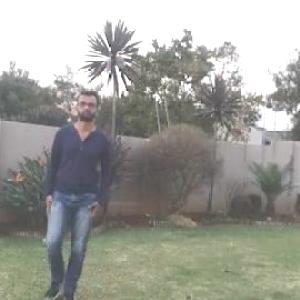follow: (31, 61, 118, 299)
